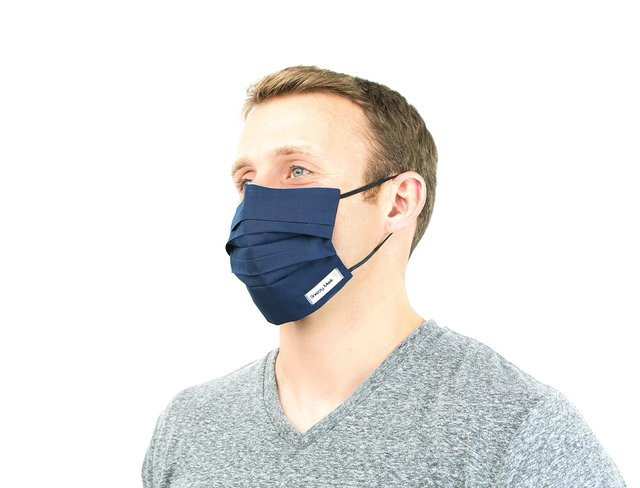mask: (222, 194, 351, 311)
